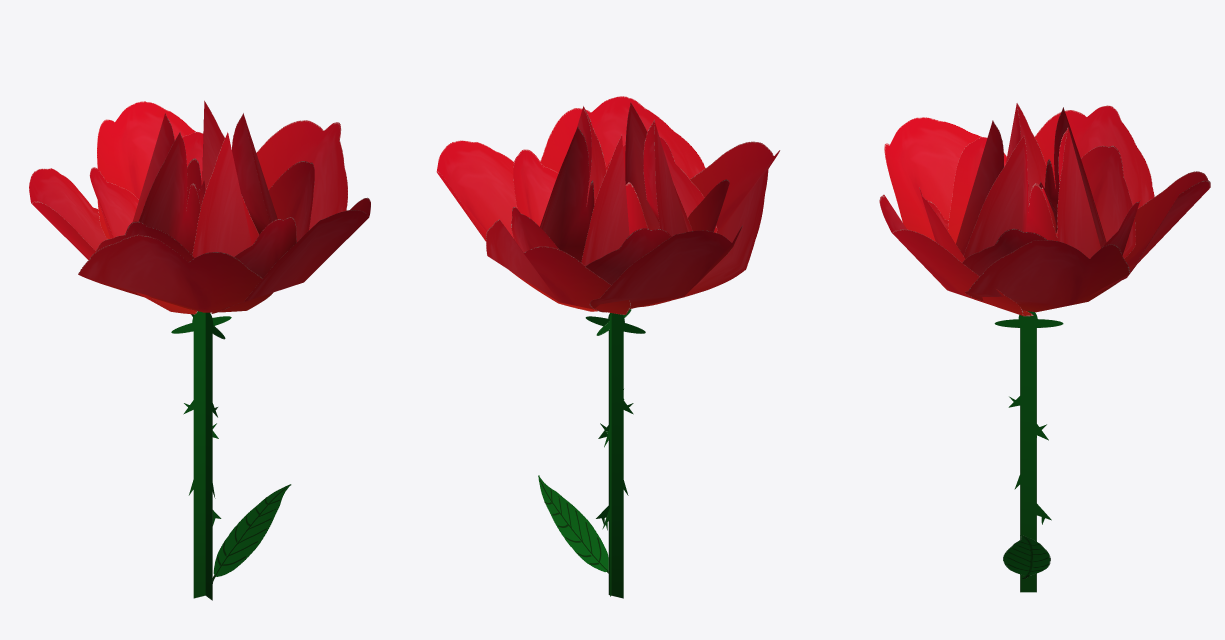
The model's file is rose_2.fbx.
3 views of the same model, side by side, from view 1: azimuth 30°, elevation 25°; view 2: azimuth 150°, elevation 25°; view 3: azimuth 270°, elevation 25° (orthographic).
Parts seen in each view (by area): view 1: kaben_3 (×3), kaben_2 (×3), kaben_5 (×3), kaben_4 (×3), kaben_1 (×3), pPlane2, leaf, pPlane3; view 2: kaben_5 (×3), kaben_2 (×3), kaben_1 (×3), kaben_3 (×3), kaben_4 (×3), pPlane2, leaf, pPlane3; view 3: kaben_5 (×3), kaben_3 (×3), kaben_2 (×3), kaben_4 (×3), kaben_1 (×3), pPlane3, leaf.
Boxes of the visible parts, bbox=[...] form: kaben_3 (×3): bbox=[78, 132, 273, 312]; kaben_2 (×3): bbox=[29, 132, 200, 314]; kaben_5 (×3): bbox=[186, 100, 347, 241]; kaben_4 (×3): bbox=[211, 113, 370, 313]; kaben_1 (×3): bbox=[97, 101, 203, 239]; pPlane2: bbox=[171, 311, 231, 598]; leaf: bbox=[212, 484, 291, 583]; pPlane3: bbox=[191, 312, 225, 600]; kaben_5 (×3): bbox=[436, 126, 597, 311]; kaben_2 (×3): bbox=[585, 119, 742, 312]; kaben_1 (×3): bbox=[486, 135, 647, 314]; kaben_3 (×3): bbox=[625, 102, 780, 307]; kaben_4 (×3): bbox=[540, 96, 717, 232]; pPlane2: bbox=[585, 313, 645, 598]; leaf: bbox=[538, 475, 608, 573]; pPlane3: bbox=[596, 309, 631, 596]; kaben_5 (×3): bbox=[962, 127, 1129, 312]; kaben_3 (×3): bbox=[884, 117, 1055, 255]; kaben_2 (×3): bbox=[1006, 103, 1154, 258]; kaben_4 (×3): bbox=[879, 135, 1057, 316]; kaben_1 (×3): bbox=[1044, 107, 1210, 295]; pPlane3: bbox=[994, 311, 1063, 592]; leaf: bbox=[1003, 535, 1050, 578].
Bounding box in the file's own units: 2.96 × 4.99 × 2.91.
